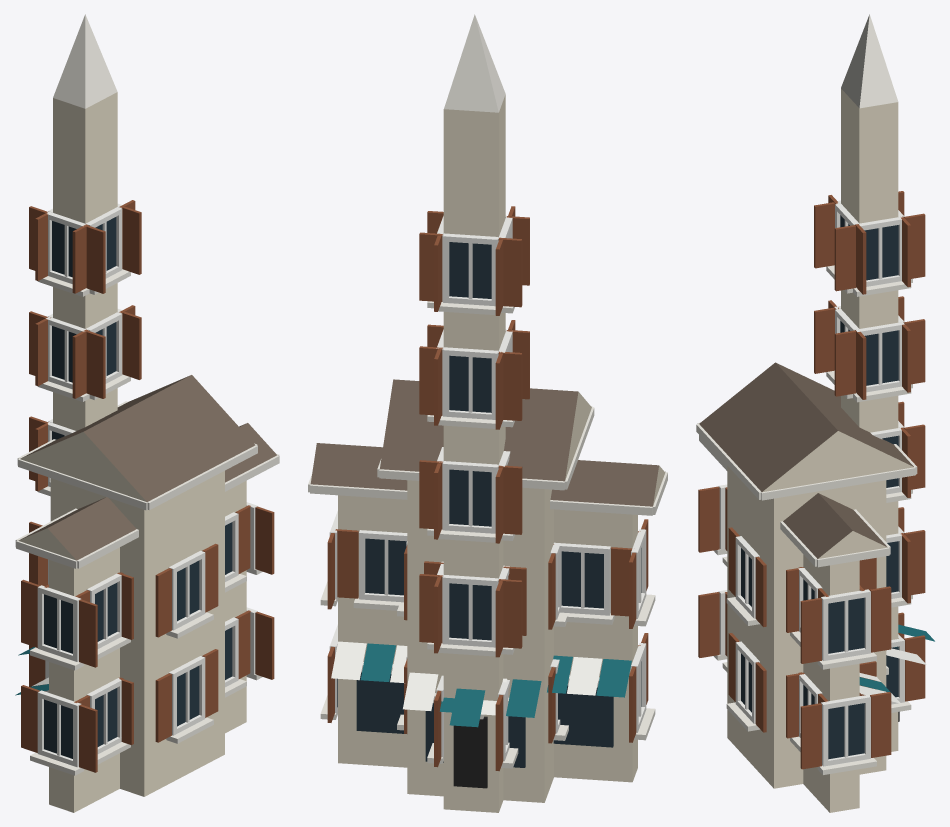
The picture shows the model from 3 angles, left to right: view 1: azimuth 30°, elevation 25°; view 2: azimuth 150°, elevation 25°; view 3: azimuth 270°, elevation 25°; orthographic projection. The views are drawn at different scales.
Visible parts, largest first — view 1: b11234; view 2: b11234; view 3: b11234.
Boxes of the visible parts, x1,y1,x2,y2 form: b11234: [15, 14, 279, 812]; b11234: [308, 14, 667, 812]; b11234: [696, 14, 934, 812].
Bounding box in the file's own units: 3701 × 9000 × 2675.
